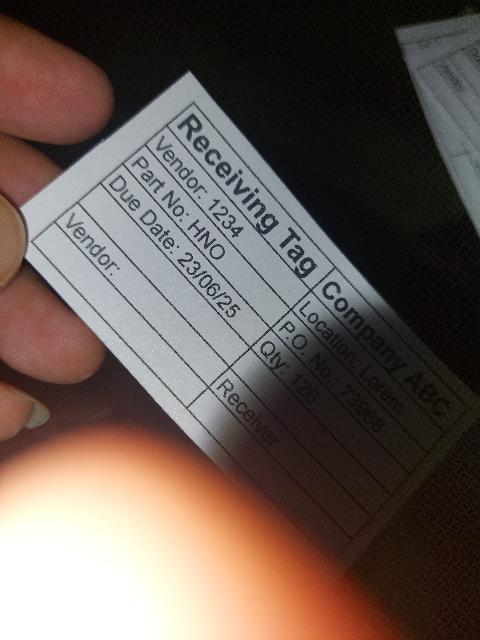PO no: (271, 311, 428, 471)
part no: (124, 145, 291, 327)
qty: (251, 331, 400, 480)
tags: (22, 73, 480, 567)
